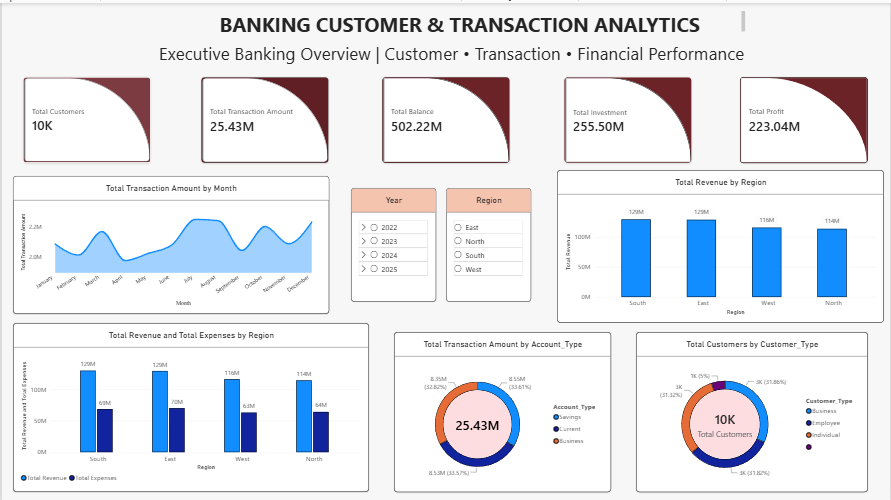

The dashboard page shown, as its layout file describes it:
{"tool":"powerbi","page":{"name":"Executive Banking Overview","canvas":[1920,1080],"ordinal":0},"visuals":[{"type":"textbox","box":[10,0,280,280],"z":0},{"type":"textbox","box":[380.2,17.3,1224.7,49.7],"z":1000},{"type":"textbox","box":[339.1,82.1,1393.2,58.3],"z":2000},{"type":"cardVisual","fields":{"Data":["customer_data.Total Customers"]},"box":[45.4,159.8,276.5,185.8],"z":3000},{"type":"cardVisual","fields":{"Data":["transaction_data.Total Transaction Amount"]},"box":[429.8,159.8,276,186],"z":4000},{"type":"cardVisual","fields":{"Data":["transaction_data.Total Balance"]},"box":[820.8,159.8,276,186],"z":5000},{"type":"cardVisual","fields":{"Data":["transaction_data.Total Investment"]},"box":[1213.9,159.8,276,186],"z":6000},{"type":"cardVisual","fields":{"Data":["bank_data.Total Profit"]},"box":[1594.1,159.8,276,186],"z":7000},{"type":"lineChart","fields":{"Category":["transaction_data.Transaction_Date.Variation.Date Hierarchy.Month"],"Y":["transaction_data.Total Transaction Amount"]},"box":[23.8,373.7,682.6,298.1],"z":8000},{"type":"clusteredColumnChart","fields":{"Category":["bank_data.Region"],"Y":["bank_data.Total Revenue"]},"box":[1198.8,360.7,706.3,330.5],"z":9000},{"type":"donutChart","fields":{"Category":["transaction_data.Account_Type"],"Y":["transaction_data.Total Transaction Amount"]},"box":[846.7,710.6,468.7,345.6],"z":10000},{"type":"donutChart","fields":{"Category":["customer_data.Customer_Type"],"Y":["customer_data.Total Customers"]},"box":[1369.4,710.6,501.1,345.6],"z":11000},{"type":"listSlicer","fields":{"Values":["transaction_data.Transaction_Date.Variation.Date Hierarchy.Year","transaction_data.Transaction_Date.Variation.Date Hierarchy.Month"]},"box":[753.8,399.6,183.6,246.2],"z":12000},{"type":"listSlicer","fields":{"Values":["customer_data.Region"]},"box":[959,399.6,183.6,246.2],"z":13000},{"type":"clusteredColumnChart","fields":{"Category":["bank_data.Region"],"Y":["bank_data.Total Revenue","bank_data.Total Expenses"]},"box":[23.8,691.2,769,365],"z":14000}]}

Visuals, with their boxes in screenshot pixels (x1, y1, x2, y2), scaled from the page's 1920x1080 canvas onto the 891x500 screenshot:
textbox: [x1=5, y1=0, x2=135, y2=130]
textbox: [x1=176, y1=8, x2=745, y2=31]
textbox: [x1=157, y1=38, x2=804, y2=65]
cardVisual - customer_data.Total Customers: [x1=21, y1=74, x2=149, y2=160]
cardVisual - transaction_data.Total Transaction Amount: [x1=199, y1=74, x2=328, y2=160]
cardVisual - transaction_data.Total Balance: [x1=381, y1=74, x2=509, y2=160]
cardVisual - transaction_data.Total Investment: [x1=563, y1=74, x2=691, y2=160]
cardVisual - bank_data.Total Profit: [x1=740, y1=74, x2=868, y2=160]
lineChart - transaction_data.Transaction_Date.Variation.Date Hierarchy.Month x transaction_data.Total Transaction Amount: [x1=11, y1=173, x2=328, y2=311]
clusteredColumnChart - bank_data.Region x bank_data.Total Revenue: [x1=556, y1=167, x2=884, y2=320]
donutChart - transaction_data.Account_Type x transaction_data.Total Transaction Amount: [x1=393, y1=329, x2=610, y2=489]
donutChart - customer_data.Customer_Type x customer_data.Total Customers: [x1=635, y1=329, x2=868, y2=489]
listSlicer - transaction_data.Transaction_Date.Variation.Date Hierarchy.Year x transaction_data.Transaction_Date.Variation.Date Hierarchy.Month: [x1=350, y1=185, x2=435, y2=299]
listSlicer - customer_data.Region: [x1=445, y1=185, x2=530, y2=299]
clusteredColumnChart - bank_data.Region x bank_data.Total Revenue: [x1=11, y1=320, x2=368, y2=489]
